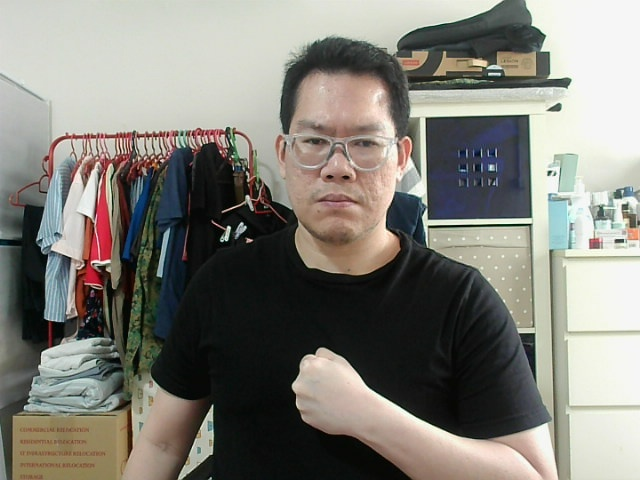sorry: (297, 351, 358, 419)
